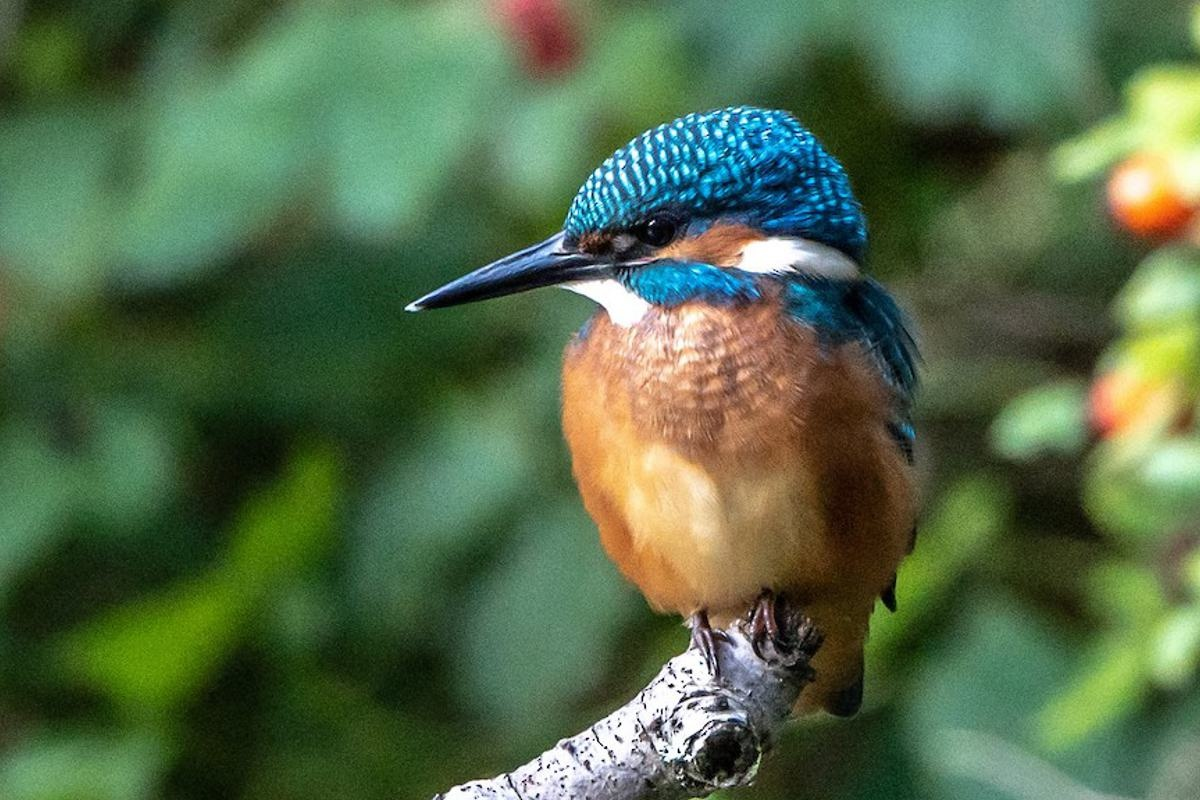kingfisher: (403, 108, 948, 691)
